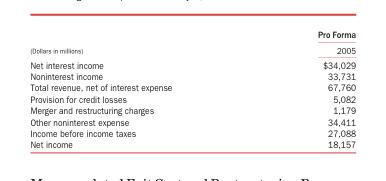table: (29, 28, 355, 149)
table column: (29, 28, 244, 149), (244, 28, 355, 149)
table column header: (29, 28, 355, 56)
table row: (29, 28, 355, 56), (29, 56, 355, 70), (29, 81, 355, 93), (29, 115, 355, 127), (29, 70, 355, 81), (29, 93, 355, 104), (29, 104, 355, 115), (29, 127, 355, 138), (29, 138, 355, 149)
